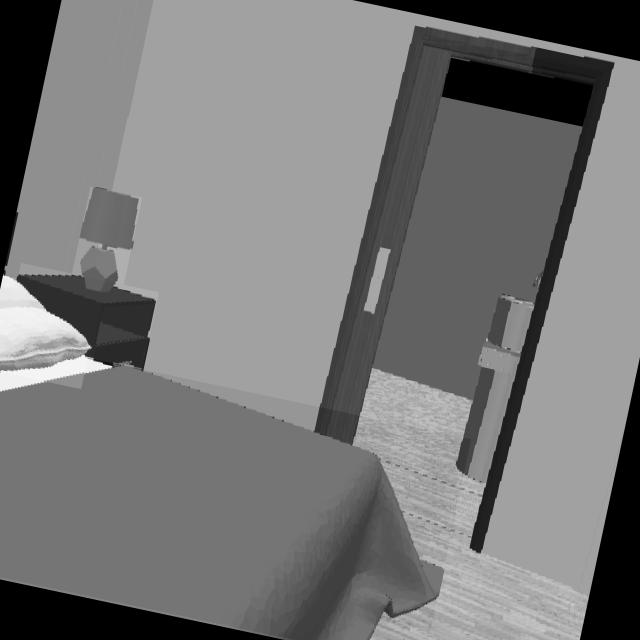bed: (0, 365, 441, 640)
lamp: (80, 187, 139, 293)
nighttable: (18, 275, 154, 368)
pillow: (0, 276, 89, 370)
